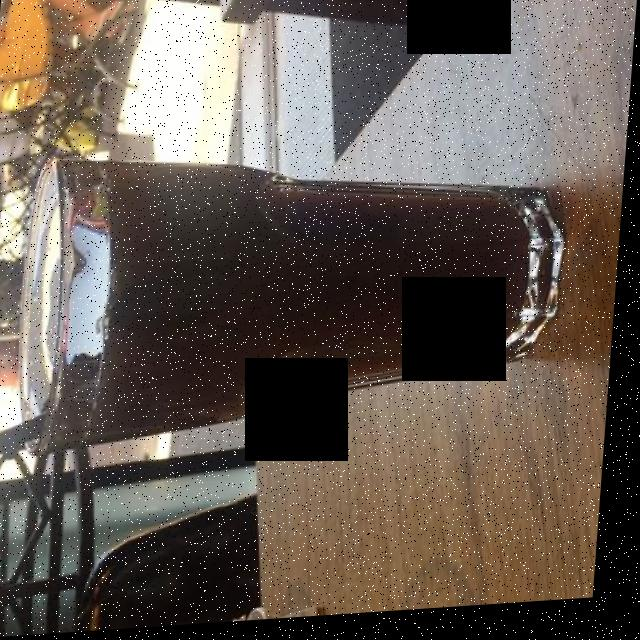ice-tea: (30, 165, 541, 453)
